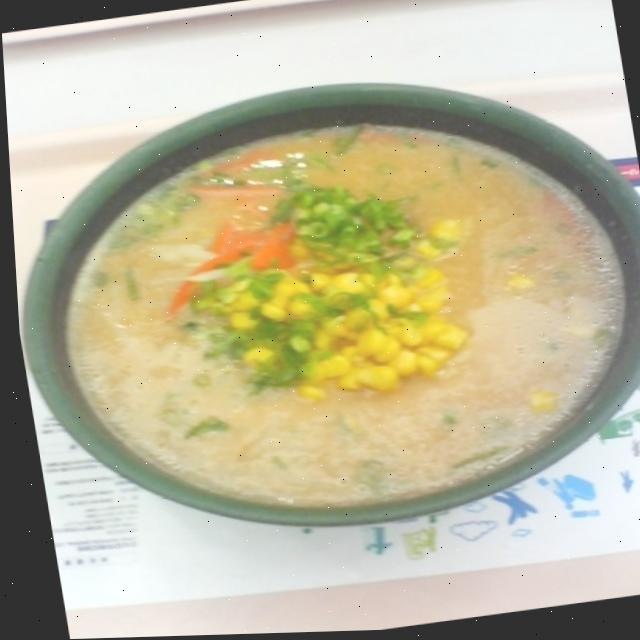面条主食: (3, 43, 640, 566)
